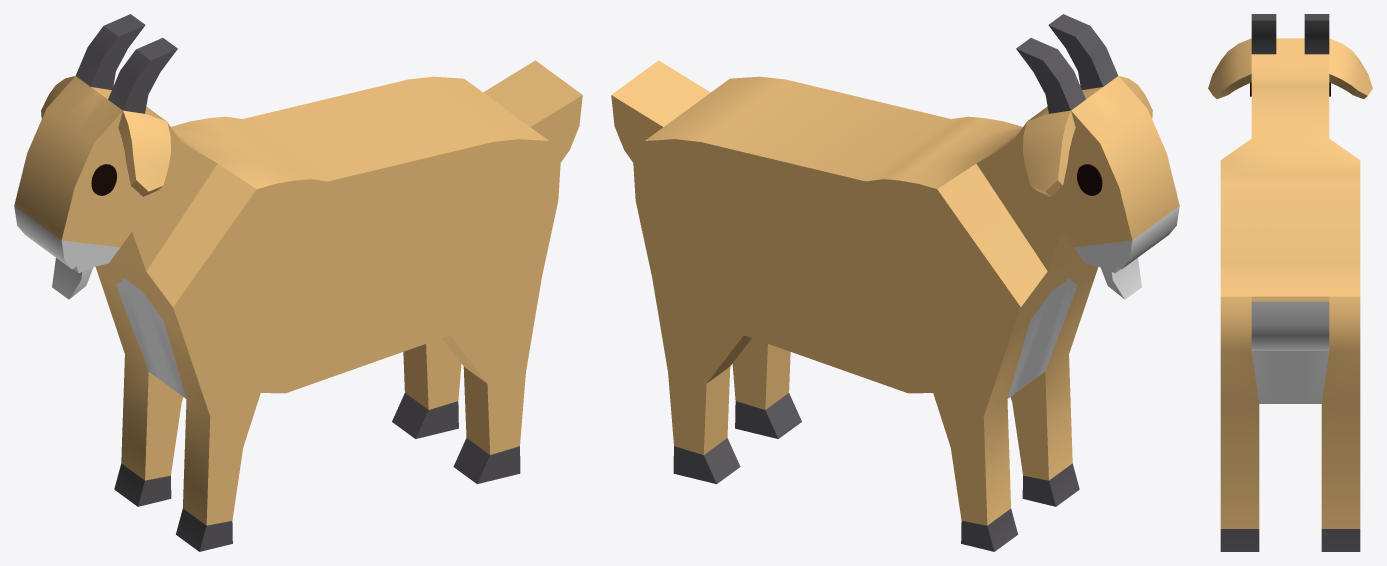
The model's file is goat.gltf.
3 renders of one model, left to right at view 1: azimuth 30°, elevation 25°; view 2: azimuth 150°, elevation 25°; view 3: azimuth 270°, elevation 25°, orthographic. The views are drawn at different scales.
Parts seen in each view (by area): view 1: Plane.125; view 2: Plane.125; view 3: Plane.125.
Boxes of the visible parts, x1,y1,x2,y2 form: Plane.125: (14, 14, 582, 551); Plane.125: (611, 14, 1179, 551); Plane.125: (1208, 14, 1372, 551).
Size of the model in its own units: 1.74 by 1.57 by 0.5828.
4 materials, 1 textured.
